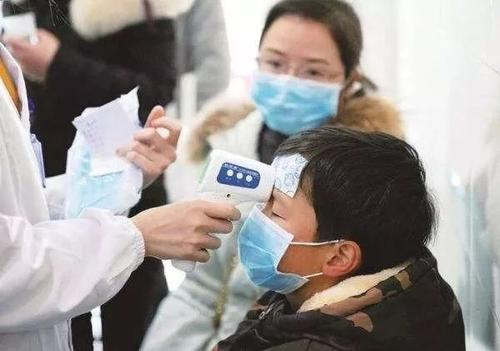yes_mask: (234, 123, 440, 294), (248, 2, 351, 137)
